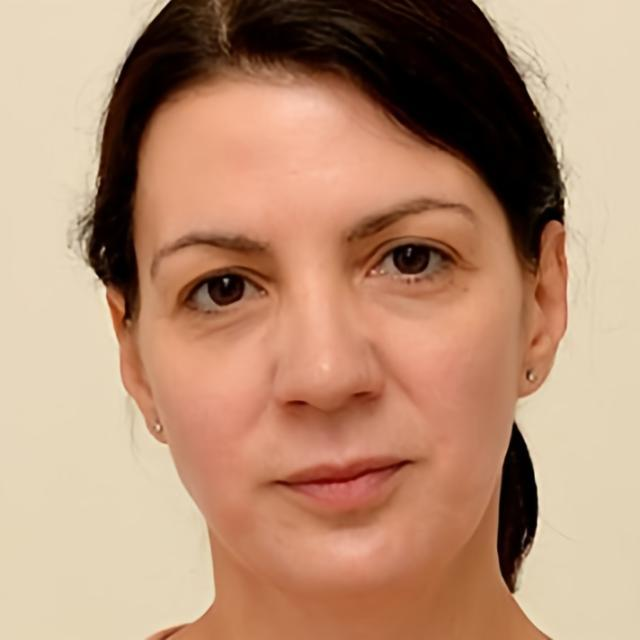content: (135, 61, 522, 593)
